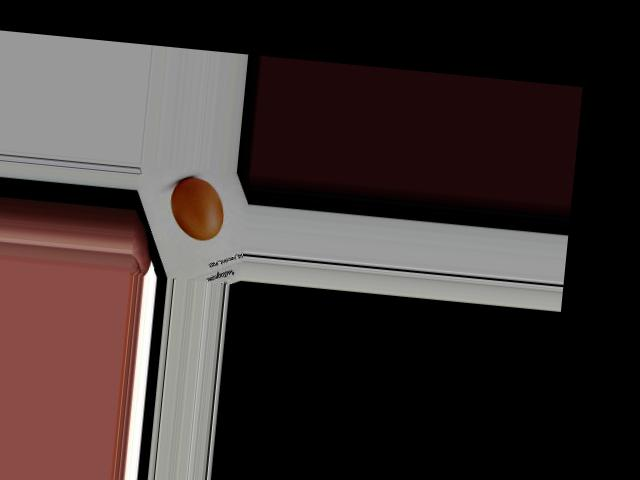egg: (167, 175, 226, 241)
